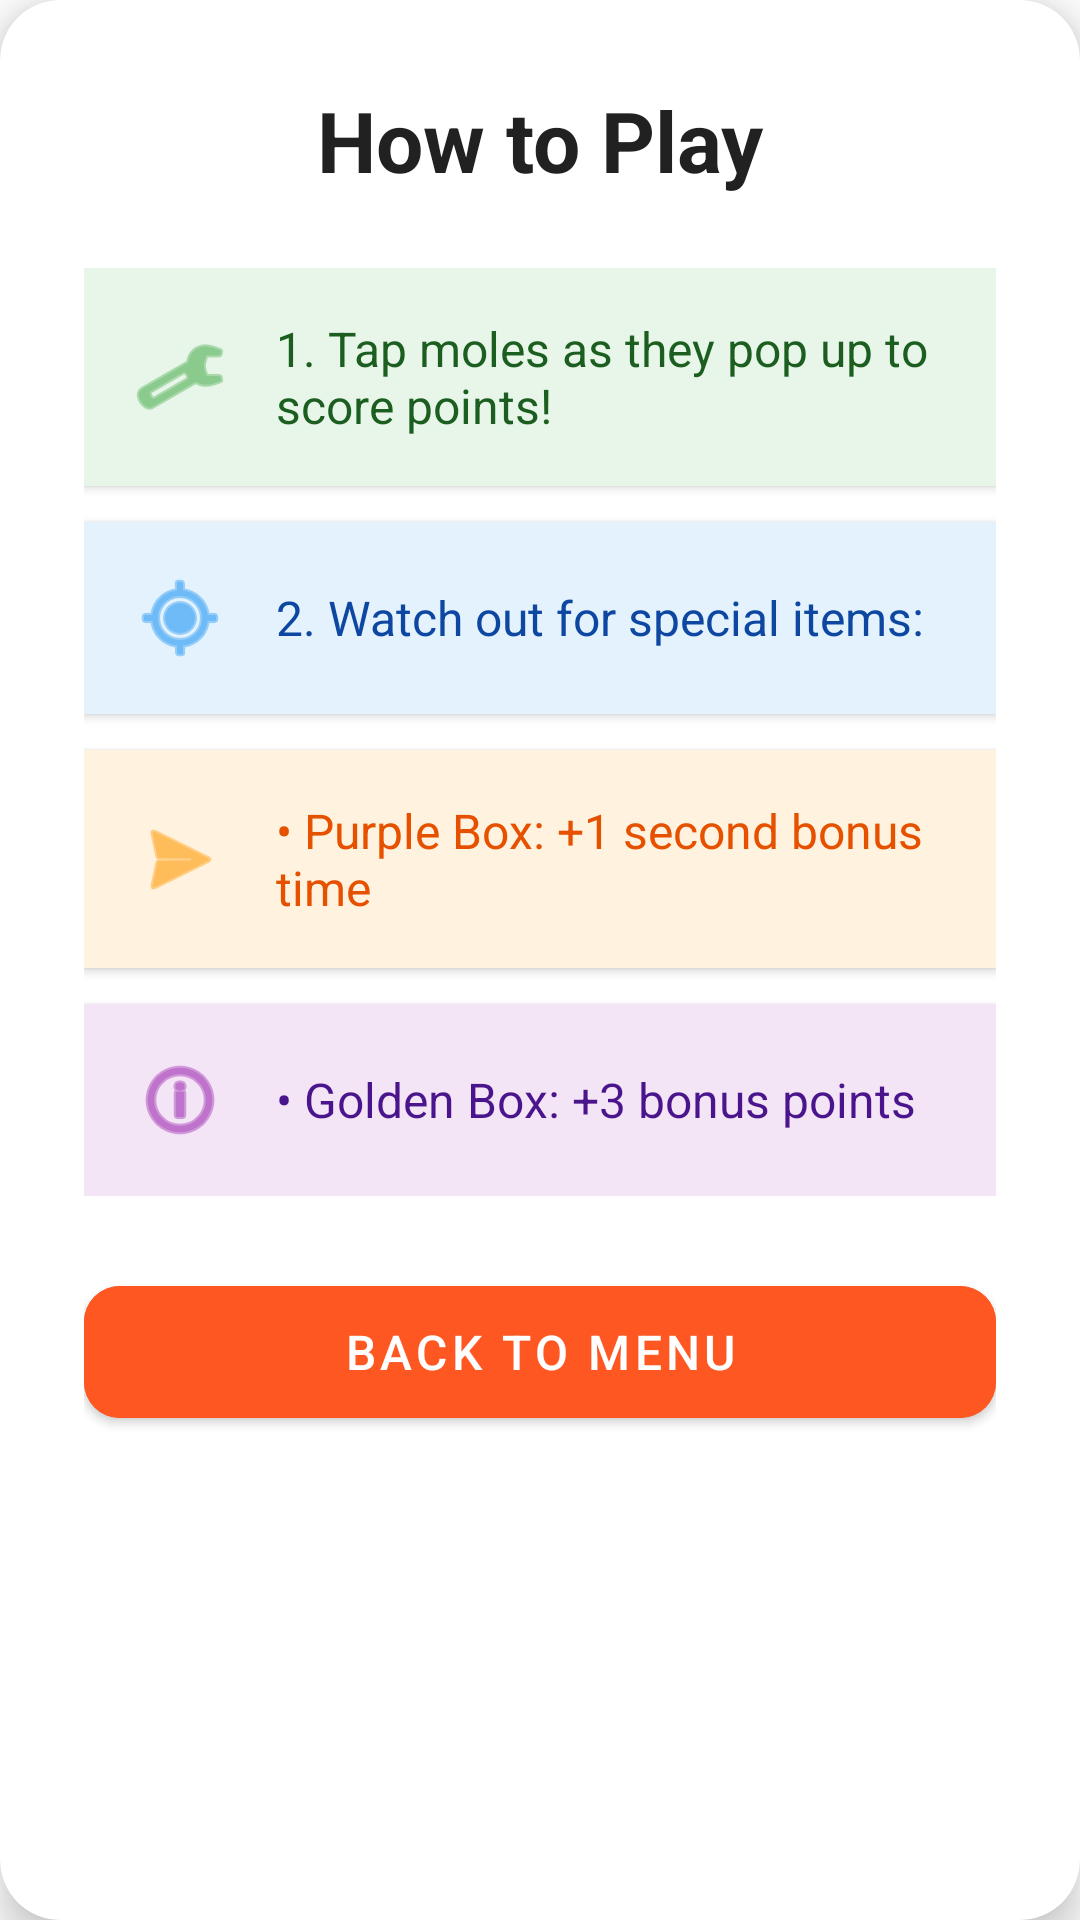

Icon click points for this 1080w x 1920h phone screenshot, format [x,y]:
info details: [180,1100]
manage: [180,377]
mylocation: [180,618]
send: [181,859]
